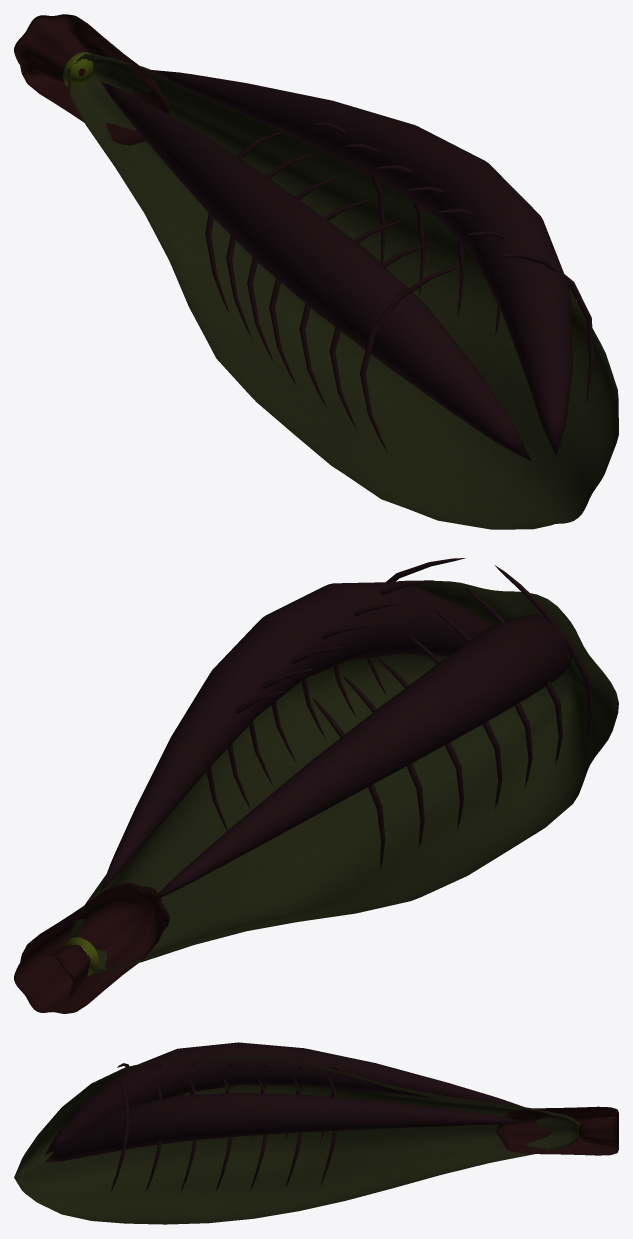
The model's file is tithe.glb.
The picture shows the model from 3 angles, top to bottom: view 1: azimuth 30°, elevation 25°; view 2: azimuth 150°, elevation 25°; view 3: azimuth 270°, elevation 25°; orthographic projection. The views are drawn at different scales.
Parts seen in each view (by area): view 1: Necrotic gland mantle, Longitudinal muscle sheet.001, Longitudinal muscle sheet, acid_body Vascular bruising, Contractile mouth, Mouth bile meniscus; view 2: Necrotic gland mantle, Longitudinal muscle sheet.001, Longitudinal muscle sheet, Contractile mouth, acid_body Vascular bruising; view 3: Necrotic gland mantle, Longitudinal muscle sheet.001, Longitudinal muscle sheet, Contractile mouth, acid_body Vascular bruising.
Part boxes in pixels (<box>): Necrotic gland mantle: <box>66,53,618,529</box>; Longitudinal muscle sheet.001: <box>148,69,572,455</box>; Longitudinal muscle sheet: <box>100,81,531,461</box>; acid_body Vascular bruising: <box>205,122,593,452</box>; Contractile mouth: <box>14,14,169,145</box>; Mouth bile meniscus: <box>63,52,94,86</box>; Necrotic gland mantle: <box>68,580,618,974</box>; Longitudinal muscle sheet.001: <box>100,582,491,891</box>; Longitudinal muscle sheet: <box>148,614,571,903</box>; Contractile mouth: <box>14,882,169,1013</box>; acid_body Vascular bruising: <box>206,558,593,870</box>; Necrotic gland mantle: <box>14,1055,580,1224</box>; Longitudinal muscle sheet.001: <box>45,1092,529,1162</box>; Longitudinal muscle sheet: <box>44,1042,524,1155</box>; Contractile mouth: <box>495,1106,618,1155</box>; acid_body Vascular bruising: <box>110,1063,338,1193</box>.
Size of the model in its own units: 0.3577 by 0.2763 by 1.06.
4 materials, 4 textured.
